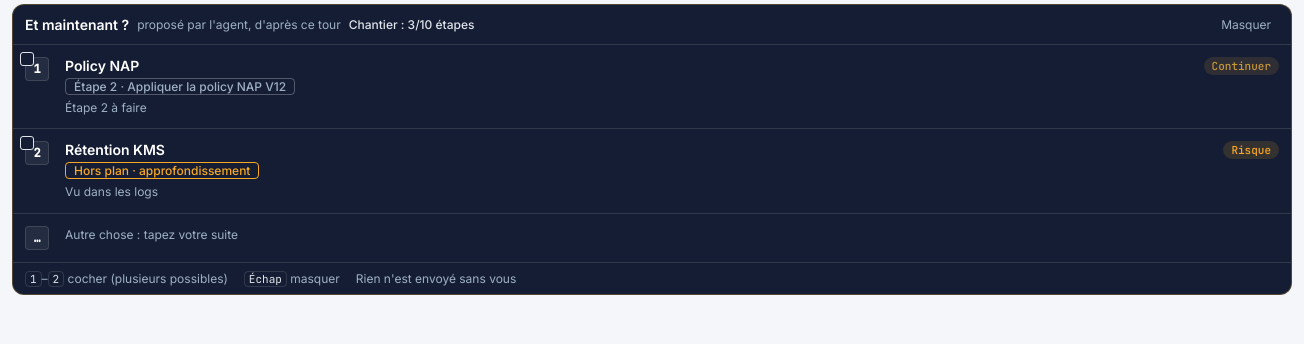
Scenario: TerminalNextStepsComponent — chantier guidé › cocher un approfondissement prévient sans rien empêcher
Click the checkbox with class "opt" that starts with "Rétention KMS" at (115,150), box x1=13 y1=129 x2=1291 y2=214
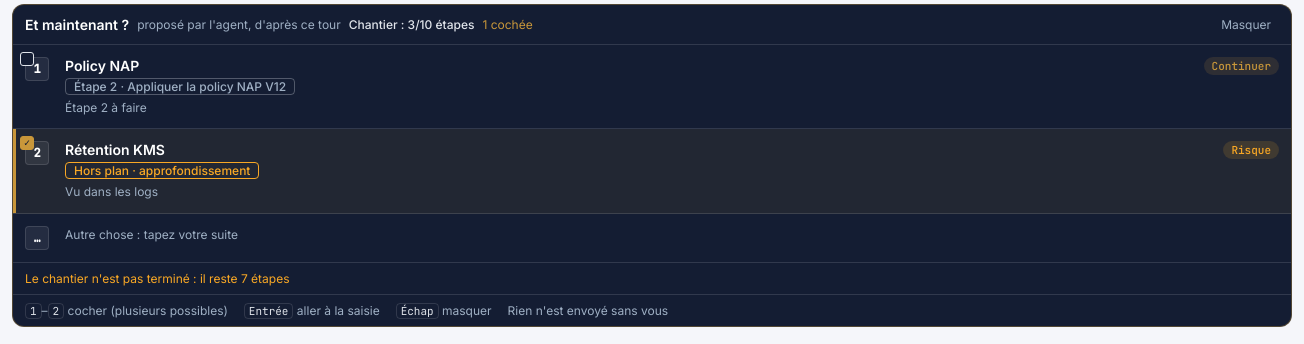
Check: the message with class "cap__warn" reads "Le chantier n'est pas terminé : il reste 7 étapes", box x1=25 y1=271 x2=290 y2=286
